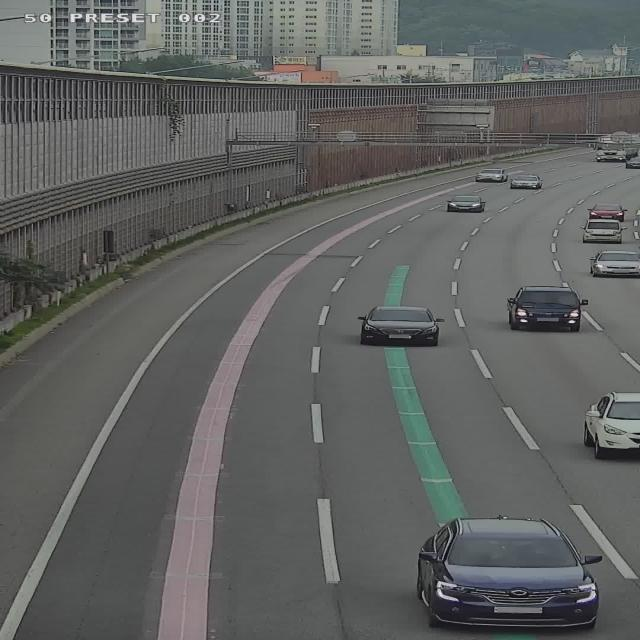Car: (415, 518, 607, 633), (586, 392, 640, 460), (510, 287, 589, 333), (358, 308, 446, 348), (579, 217, 627, 245), (592, 251, 640, 278), (438, 189, 482, 216), (591, 204, 627, 224), (511, 172, 544, 193), (472, 166, 500, 182), (622, 154, 640, 175)
Truck: (585, 134, 640, 164)
